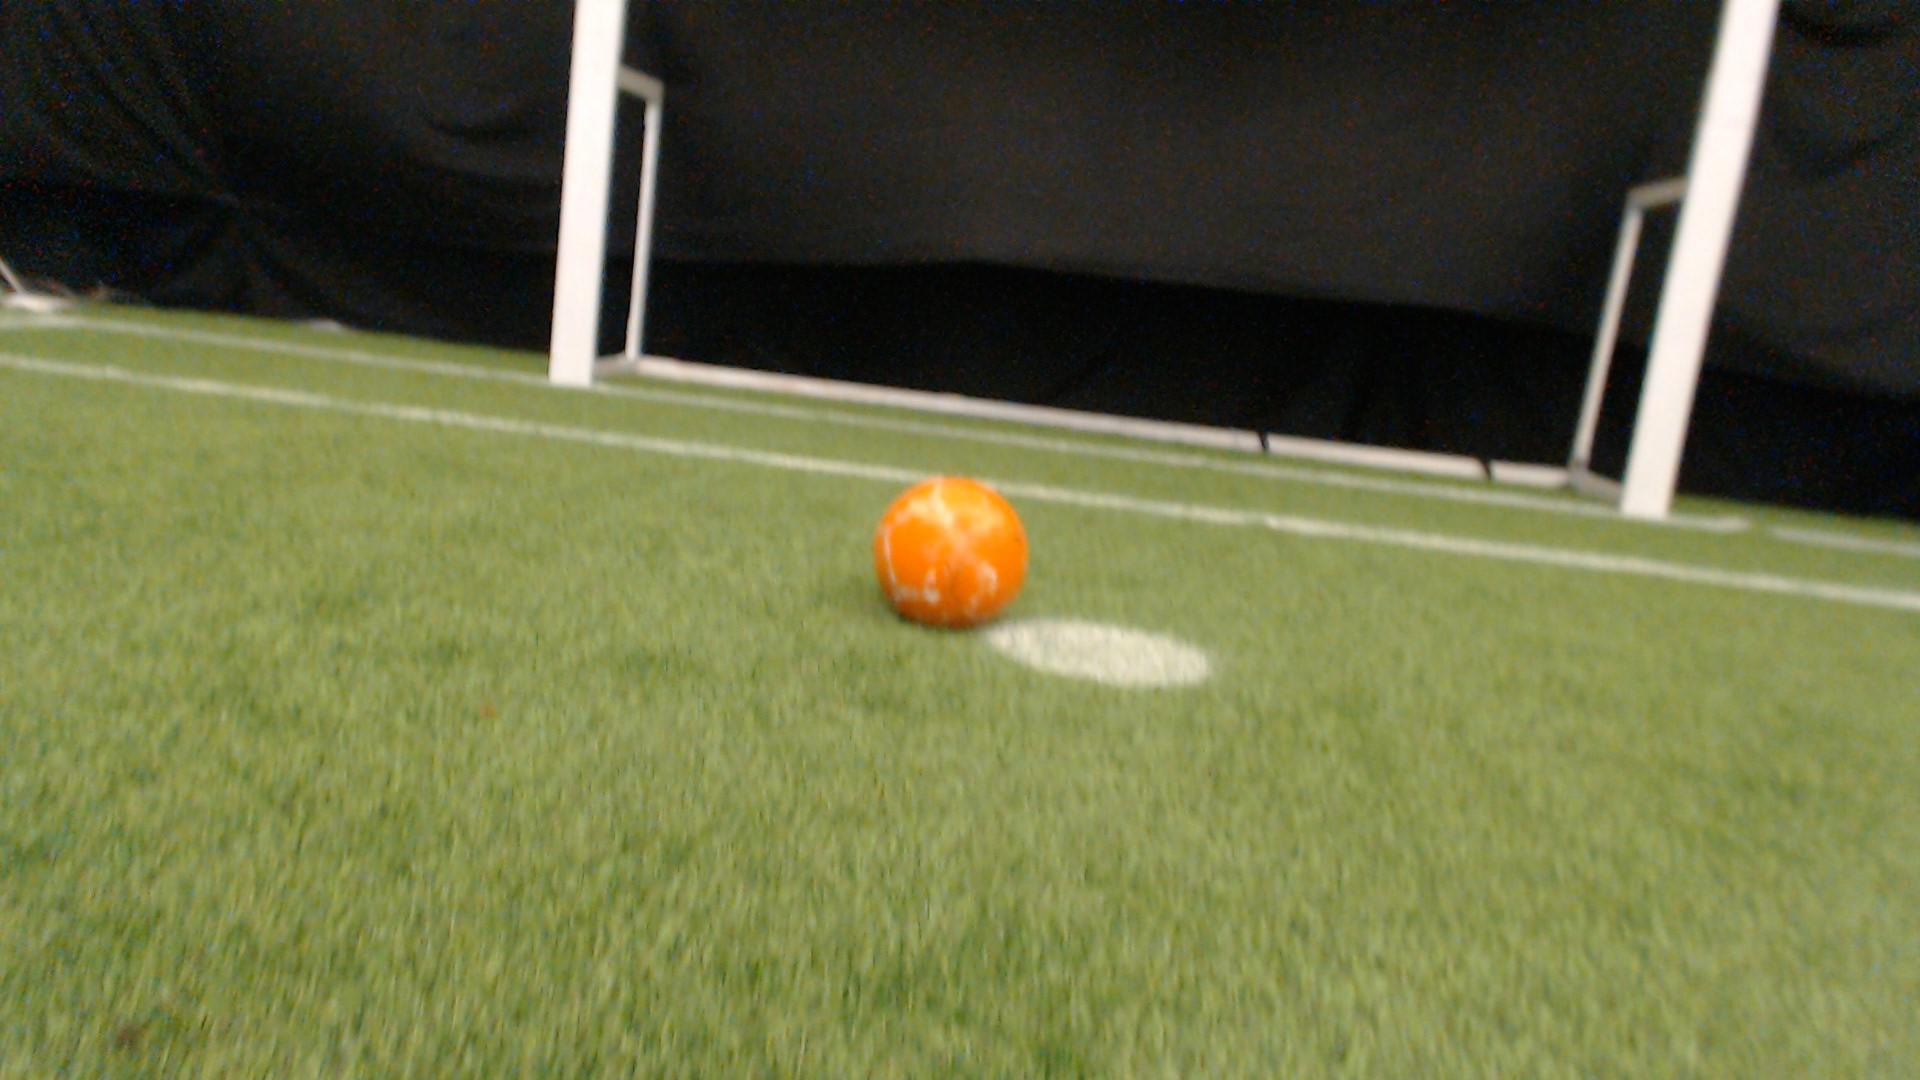bola: (855, 463, 1051, 641)
